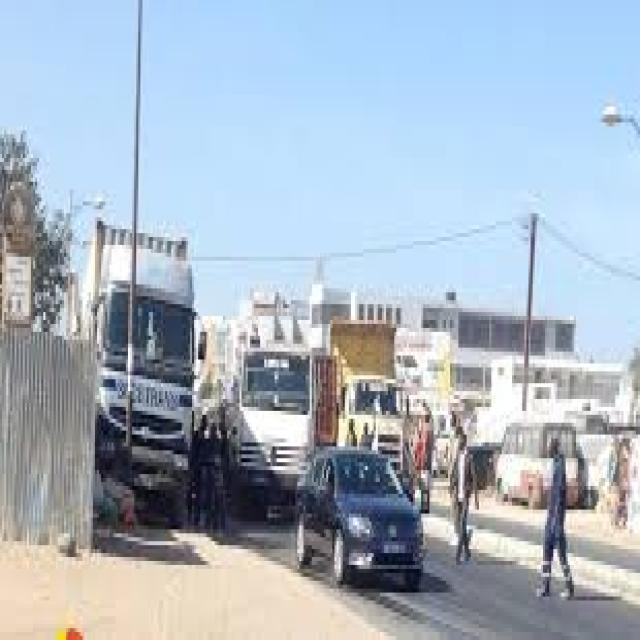camion: (85, 221, 196, 453), (240, 350, 312, 515), (334, 322, 402, 472)
particulier: (300, 451, 424, 587), (497, 424, 581, 508)
